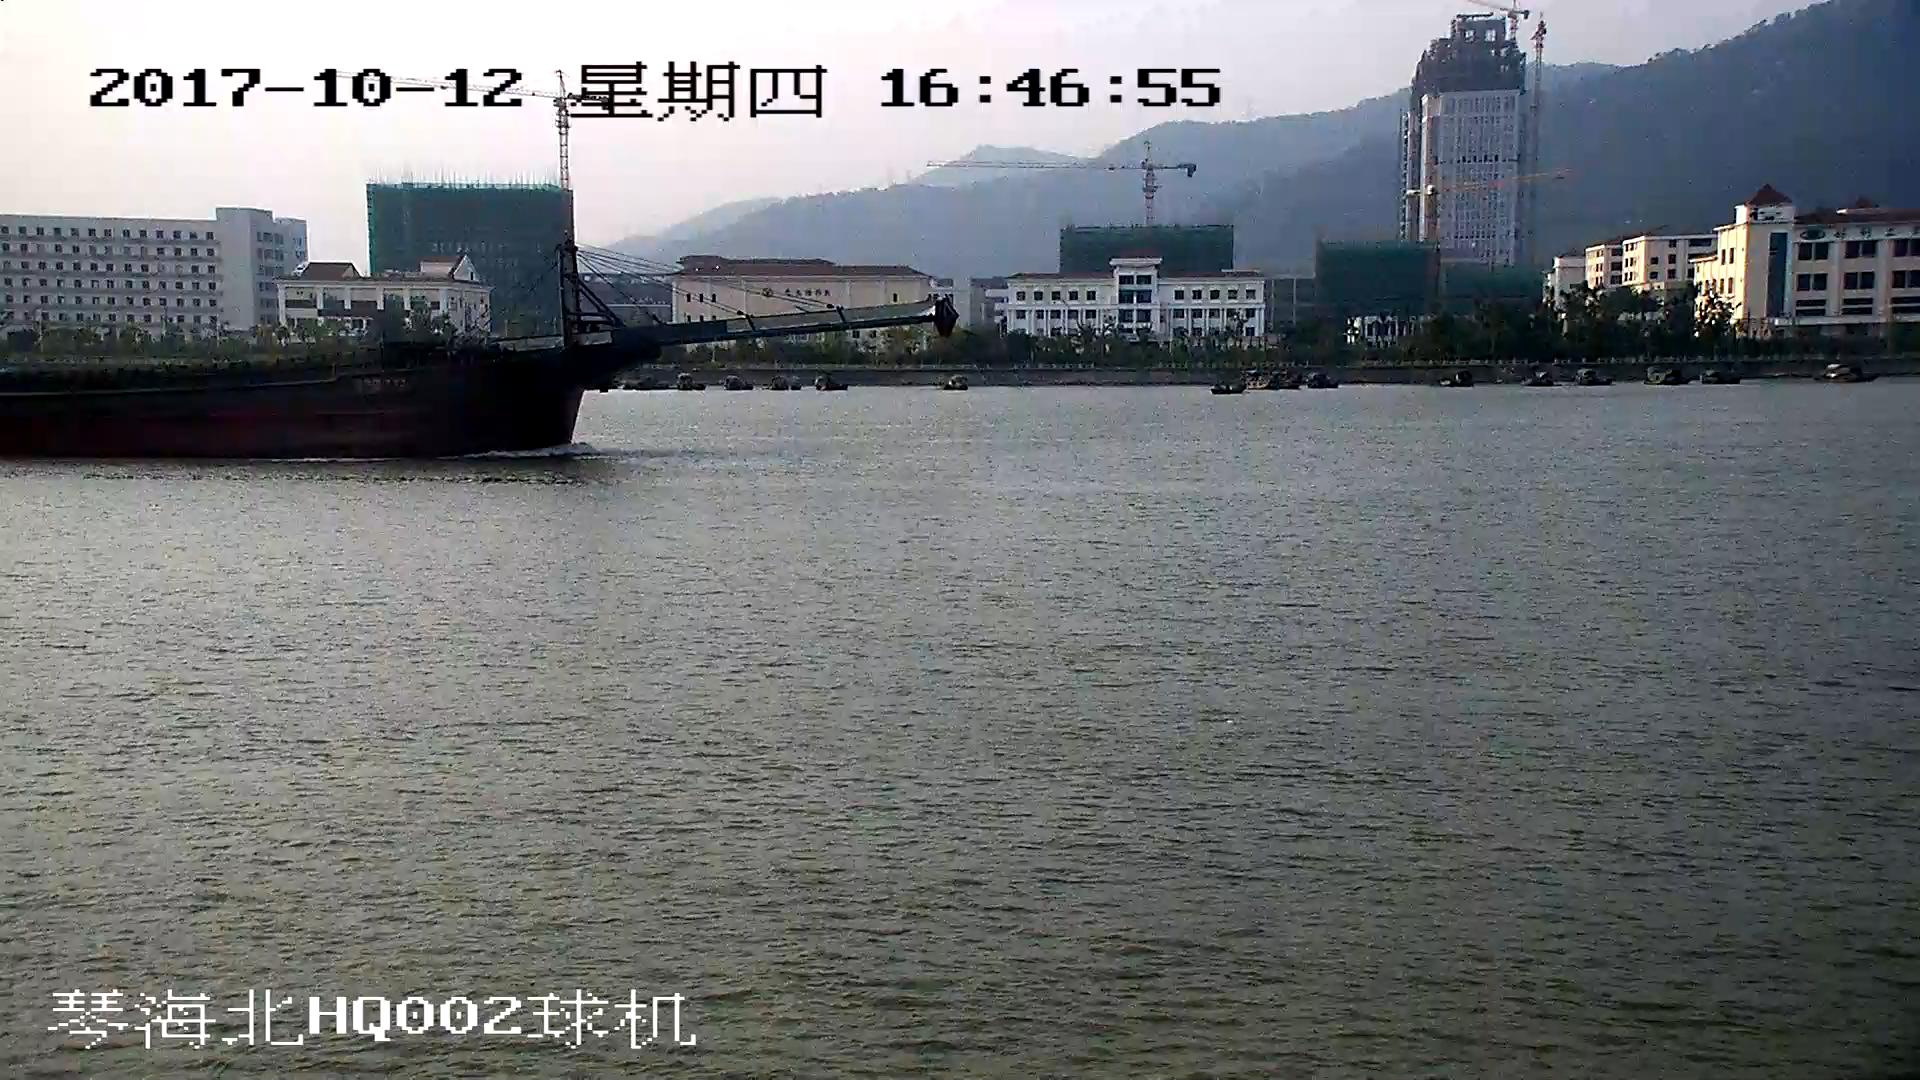bulk cargo carrier: (1, 241, 948, 459)
